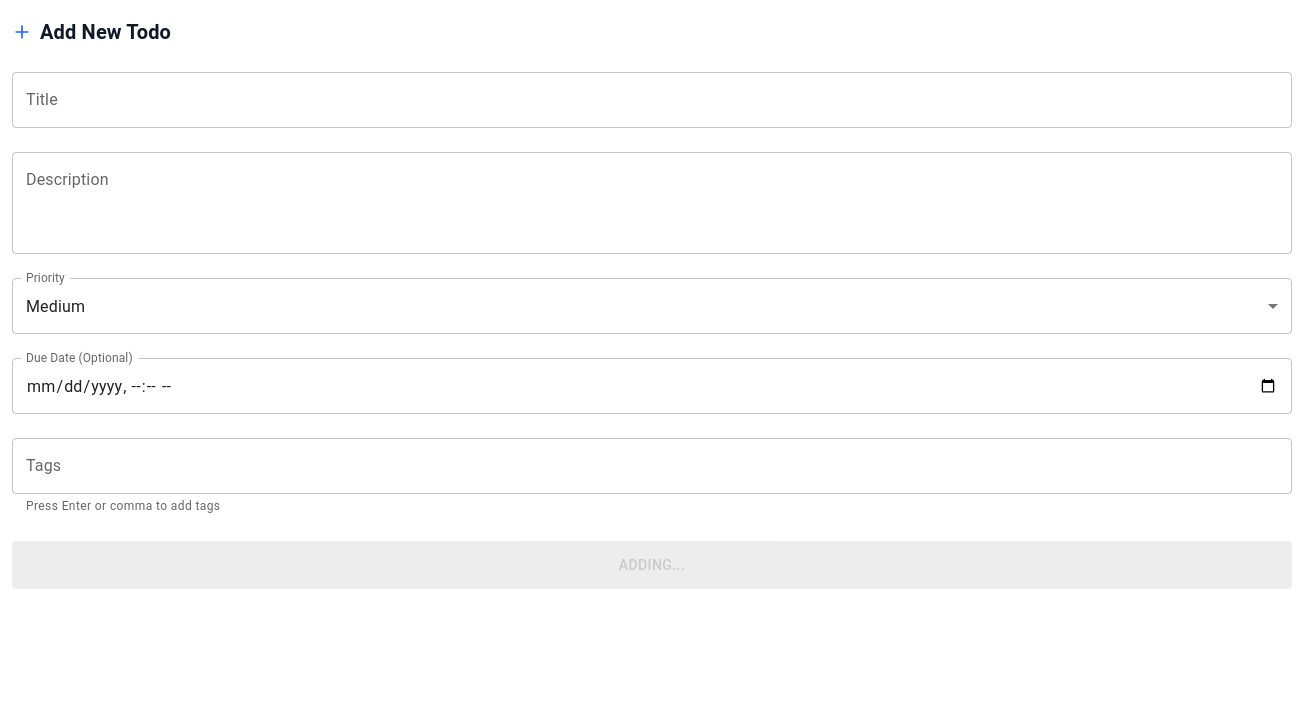
Scenario: TodoForm › displays priority options
The width and height of the screenshot is (1304, 720).
Click to open dropdown
Step 1. Press the mouse on the dropdown → (56, 306), box x1=26 y1=296 x2=85 y2=316
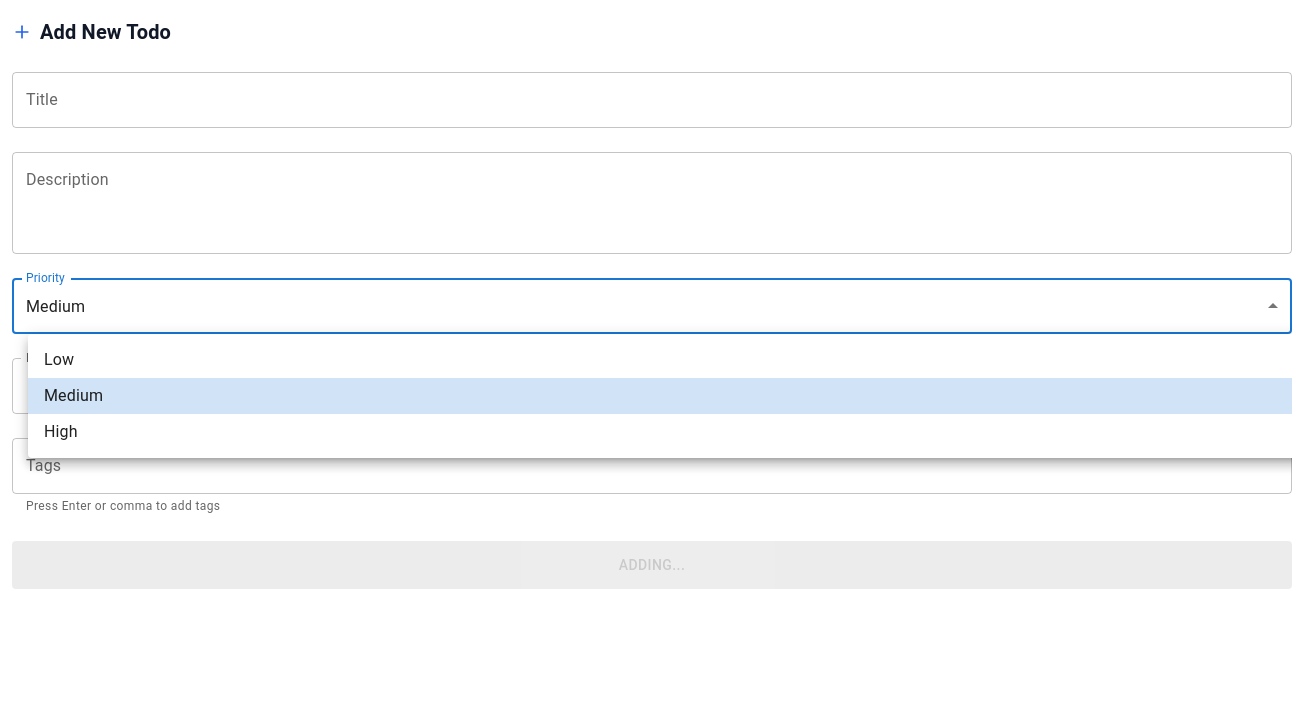
Expected: the option "High" is shown, x1=44 y1=422 x2=78 y2=441
Expected: the option "Low" is shown, x1=44 y1=350 x2=74 y2=369
